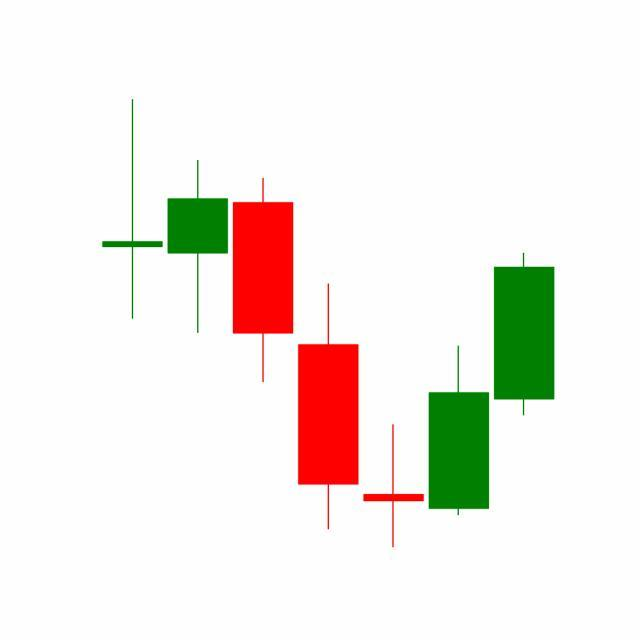Morning Doji Star: (295, 280, 492, 549)
